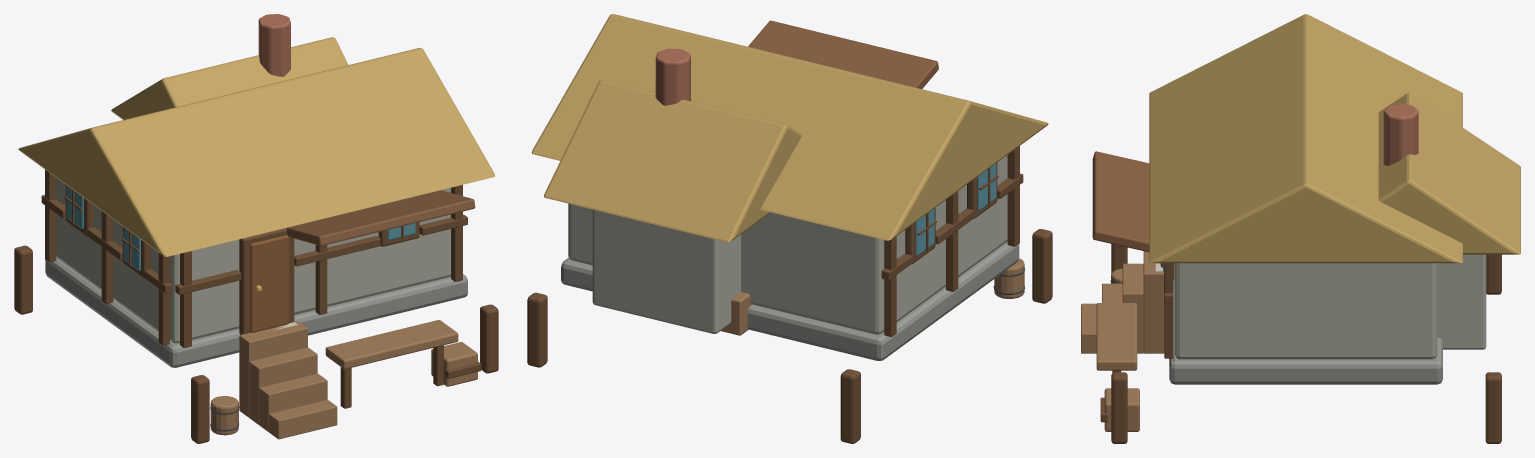
The model's file is wetland-artisan-3.glb.
3 views of the same model, side by side, from view 1: azimuth 30°, elevation 25°; view 2: azimuth 150°, elevation 25°; view 3: azimuth 270°, elevation 25° (orthographic). The views are drawn at different scales.
Visible parts, largest first — view 1: Golden thatch, Dark beams, Fieldstone, Aged oak, Foundation stone, Wood shingles, Door oak, Chimney brick, Blue glass; view 2: Golden thatch, Fieldstone, Dark beams, Foundation stone, Wood shingles, Chimney brick, Aged oak, Blue glass; view 3: Golden thatch, Fieldstone, Aged oak, Foundation stone, Wood shingles, Dark beams, Chimney brick.
Part boxes in pixels (bbox=[...]): Golden thatch: bbox=[18, 37, 494, 256]; Dark beams: bbox=[14, 169, 498, 443]; Fieldstone: bbox=[56, 178, 450, 343]; Aged oak: bbox=[210, 320, 477, 439]; Foundation stone: bbox=[45, 257, 467, 367]; Wood shingles: bbox=[286, 190, 475, 245]; Door oak: bbox=[250, 235, 288, 332]; Chimney brick: bbox=[258, 14, 290, 76]; Blue glass: bbox=[66, 185, 415, 270]; Golden thatch: bbox=[531, 14, 1048, 242]; Fieldstone: bbox=[568, 155, 1007, 334]; Dark beams: bbox=[527, 146, 1052, 443]; Foundation stone: bbox=[561, 241, 1019, 360]; Wood shingles: bbox=[748, 20, 938, 88]; Chimney brick: bbox=[655, 48, 690, 105]; Aged oak: bbox=[721, 258, 1024, 335]; Blue glass: bbox=[915, 163, 996, 255]; Golden thatch: bbox=[1149, 14, 1520, 263]; Fieldstone: bbox=[1175, 254, 1486, 359]; Aged oak: bbox=[1081, 251, 1164, 431]; Foundation stone: bbox=[1169, 263, 1442, 384]; Wood shingles: bbox=[1092, 151, 1149, 252]; Dark beams: bbox=[1100, 244, 1501, 443]; Chimney brick: bbox=[1383, 104, 1418, 165].
Bounding box in the file's own units: 4.5 × 3.53 × 4.86.
